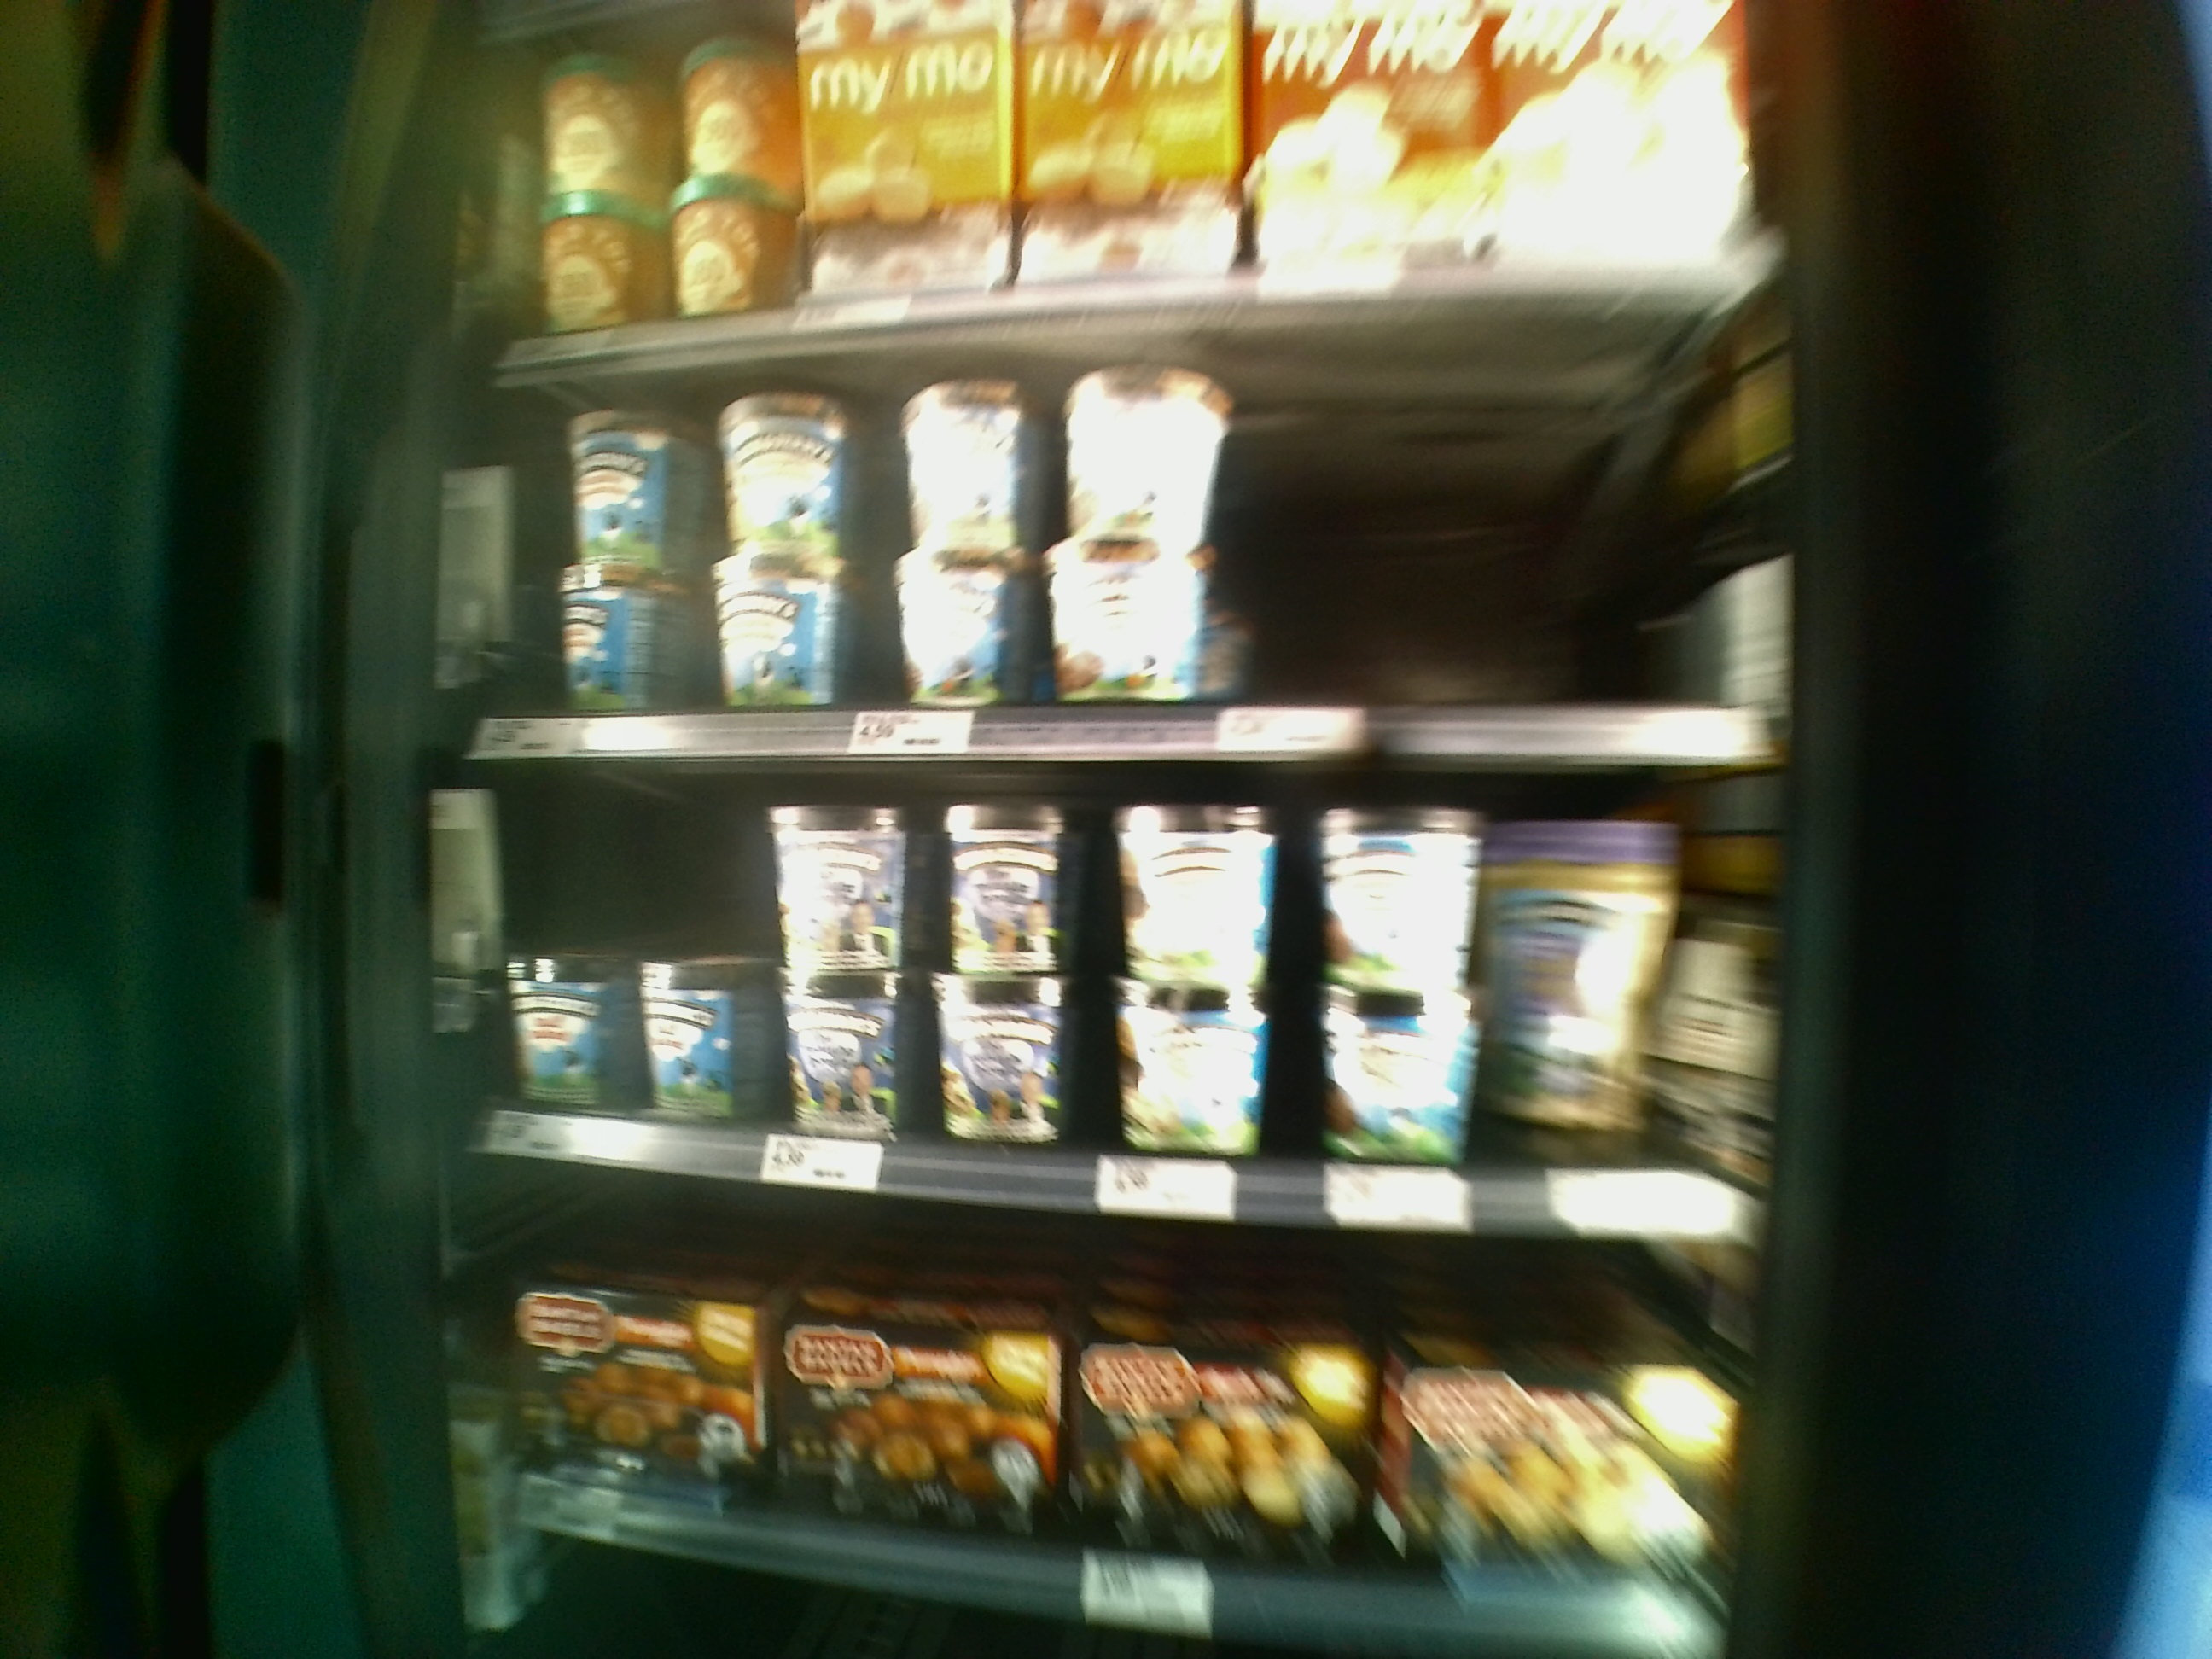shelf: (413, 746, 1743, 1220), (435, 362, 1764, 753)
